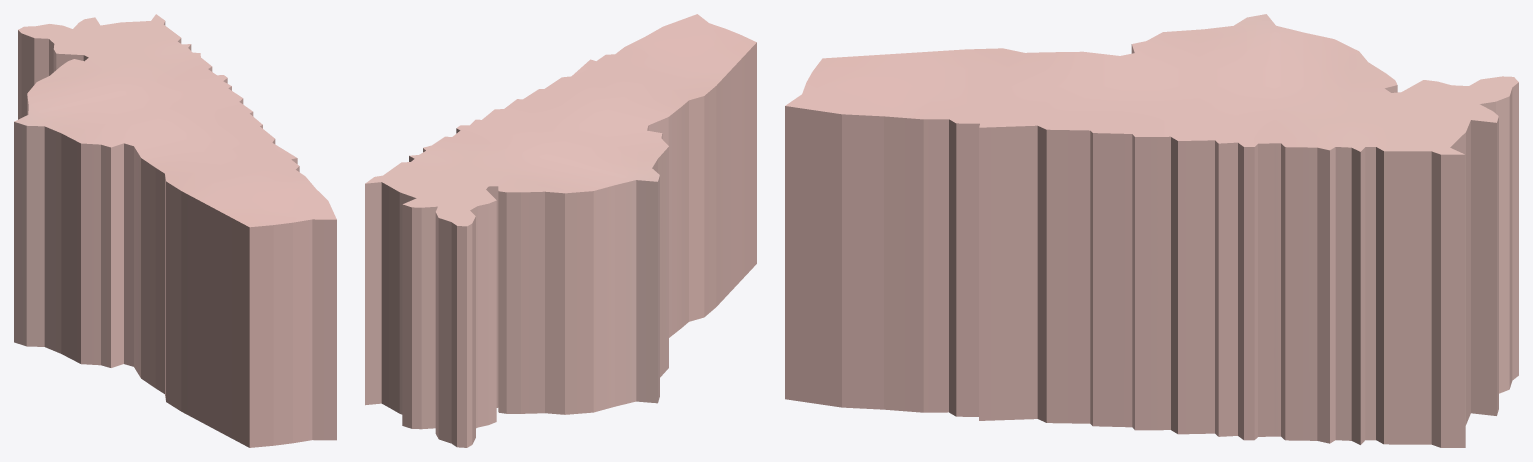
File: long_branch.glb
3 renders of one model, left to right at view 1: azimuth 30°, elevation 25°; view 2: azimuth 150°, elevation 25°; view 3: azimuth 270°, elevation 25°, orthographic. The views are drawn at different scales.
Visible parts, largest first — view 1: Plane.074; view 2: Plane.074; view 3: Plane.074.
Boxes of the visible parts, x1,y1,x2,y2 form: Plane.074: [14, 14, 336, 447]; Plane.074: [365, 14, 756, 447]; Plane.074: [785, 14, 1518, 447].
Bounding box in the file's own units: 0.3967 × 0.3856 × 0.8746.
1 material, 1 textured.
